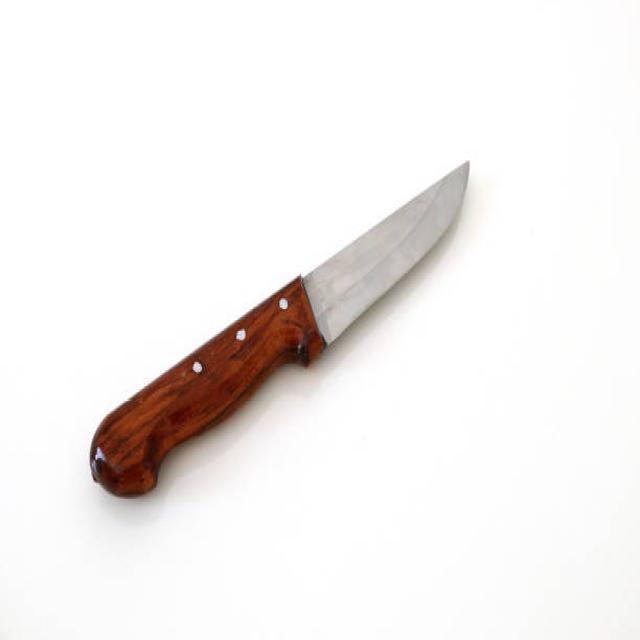knife: (84, 153, 474, 514)
